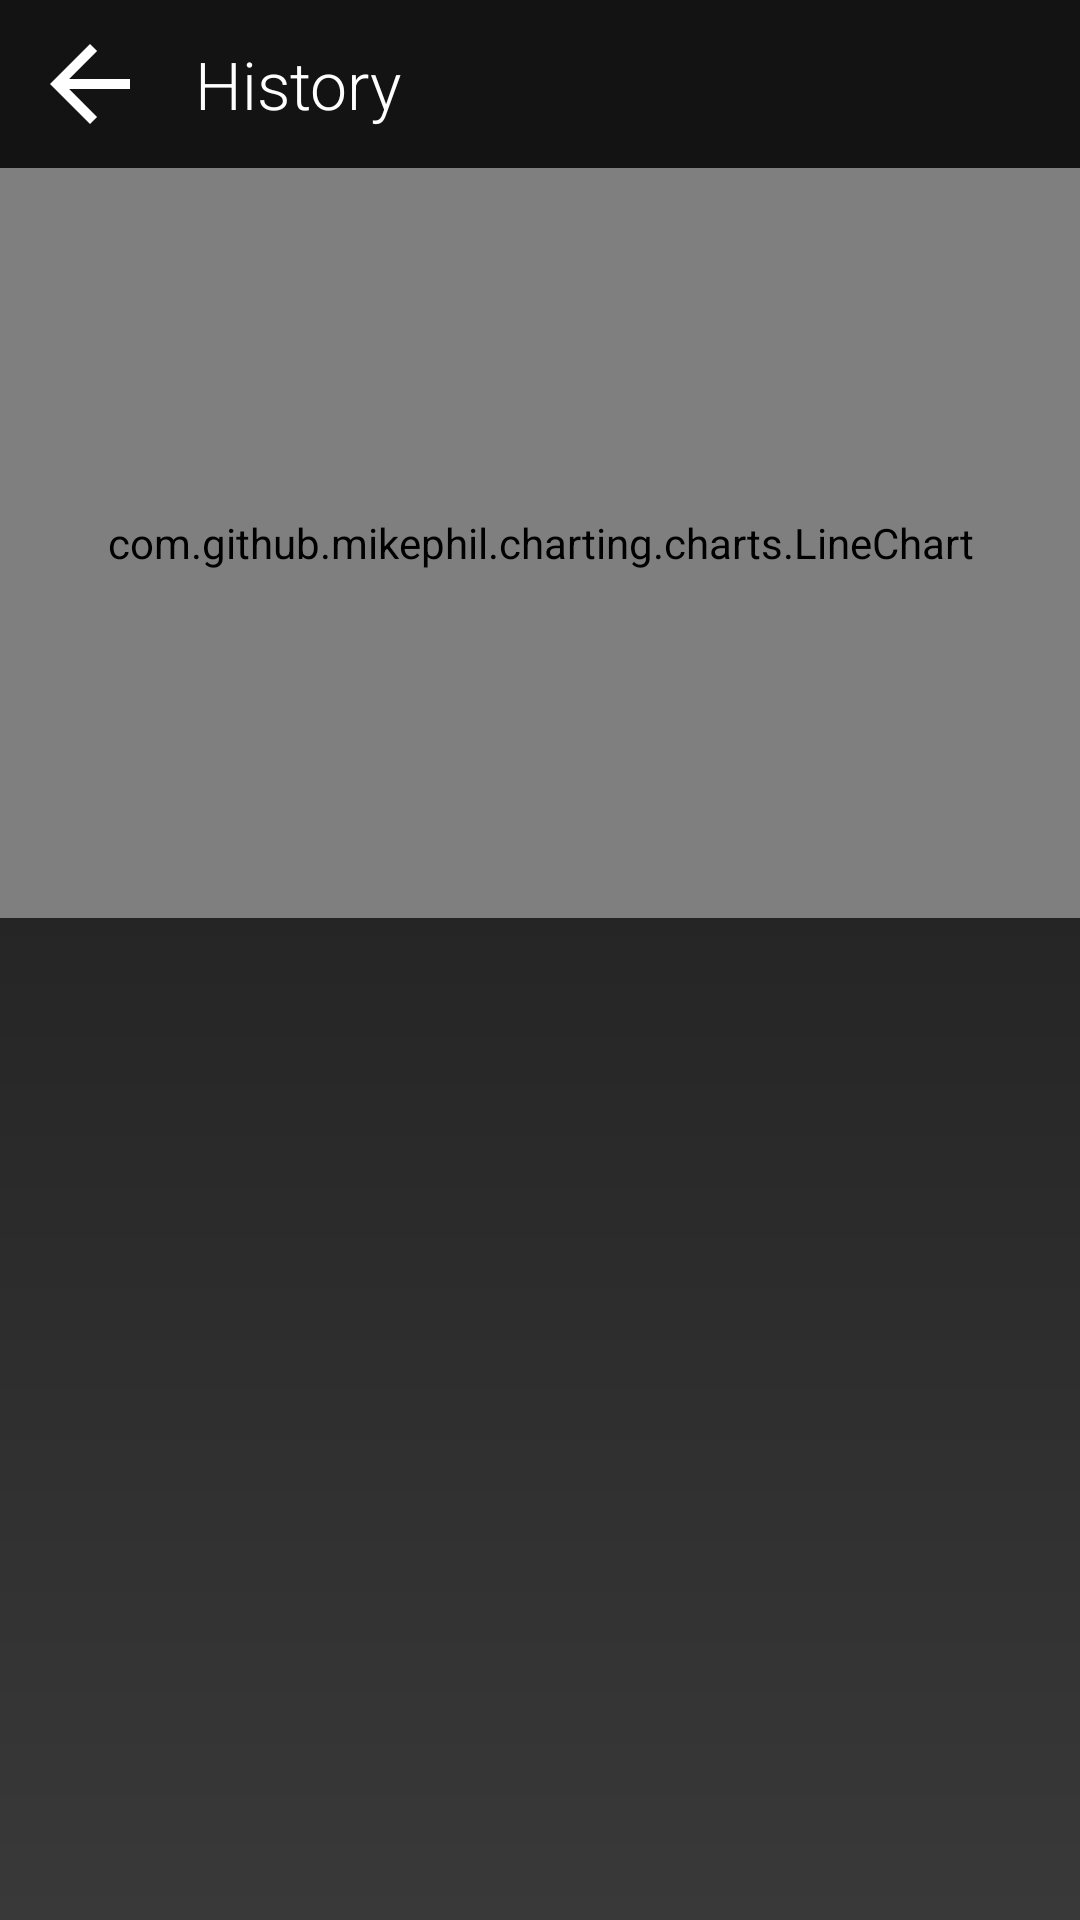

Icon click points for this 1080w x 1920h phone screenshot, format (x=x, y=y):
back: (x=90, y=84)
